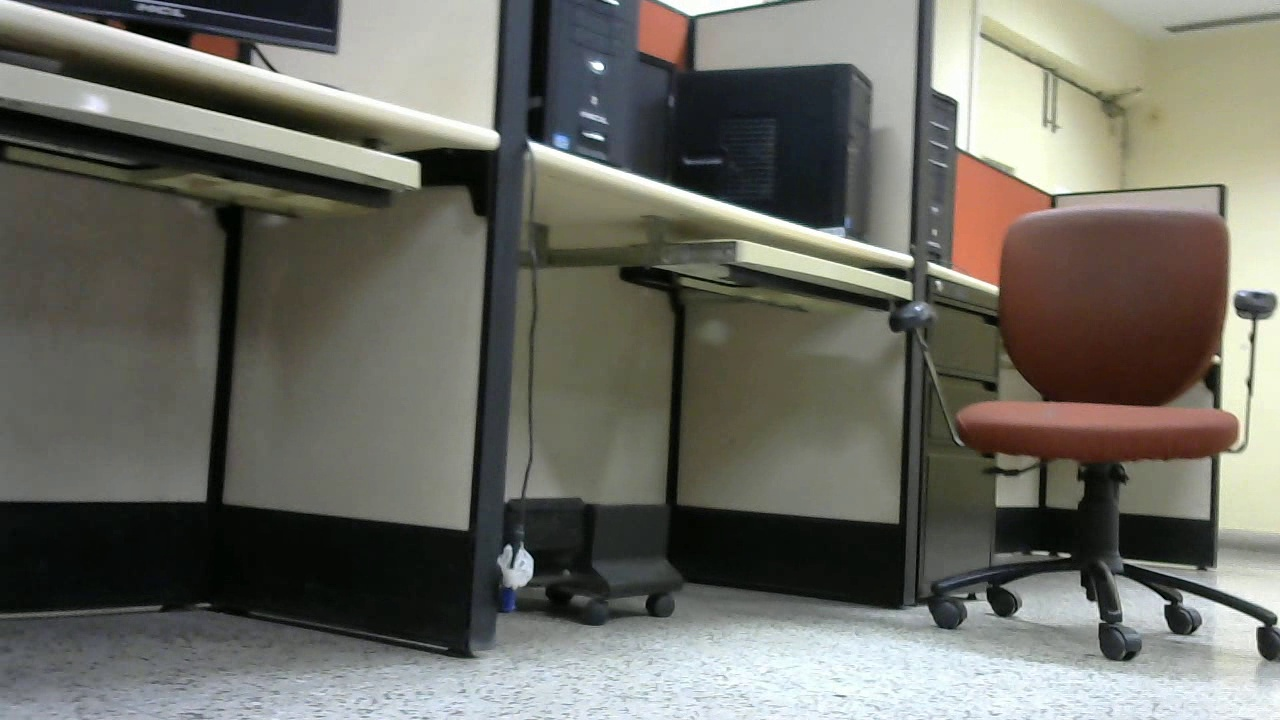chair: (477, 1, 942, 688), (1, 197, 155, 501)
